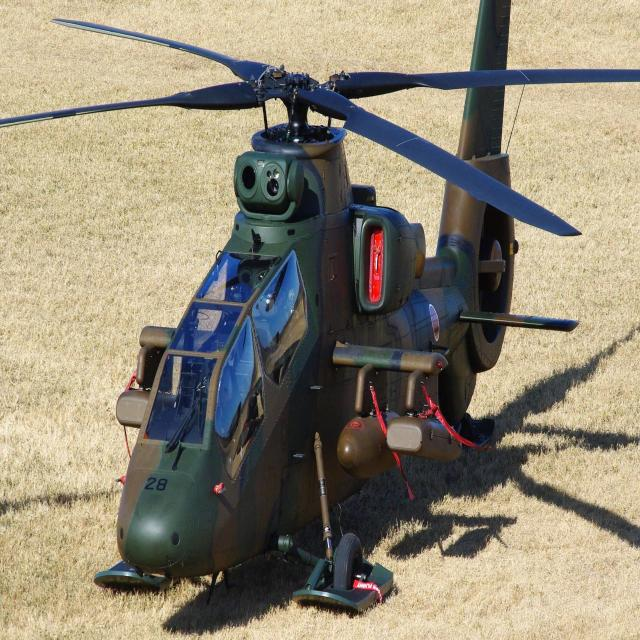MIL_HELO: (0, 9, 640, 602)
